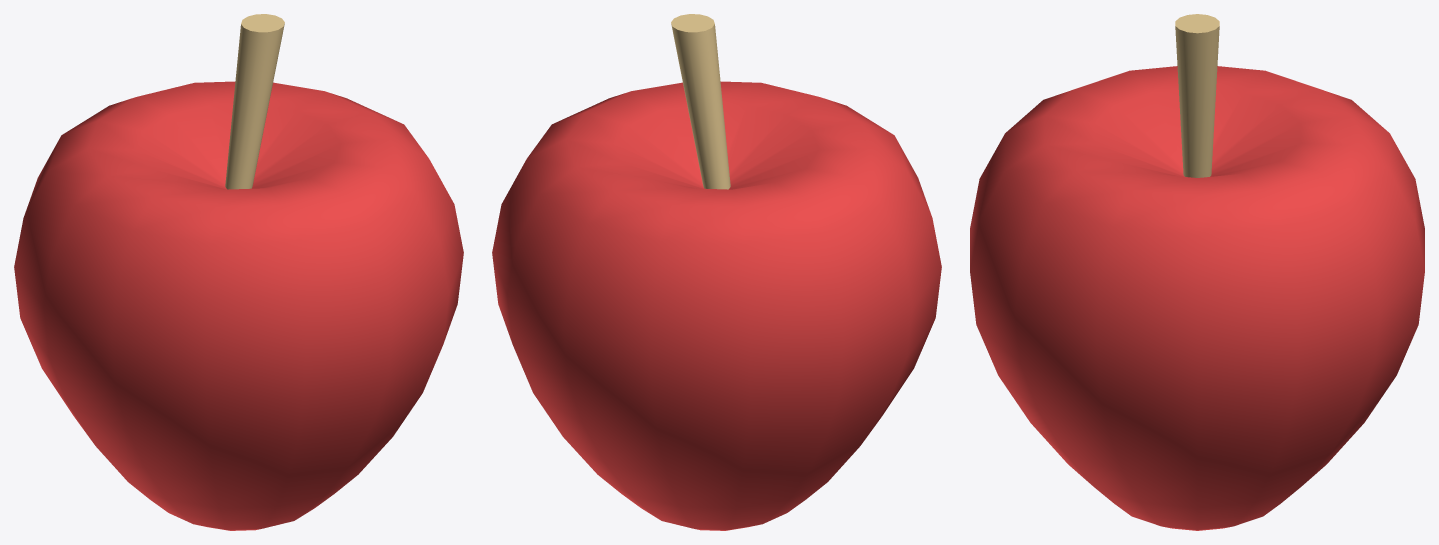
Rendered from apple.fbx.
3 views of the same model, side by side, from view 1: azimuth 30°, elevation 25°; view 2: azimuth 150°, elevation 25°; view 3: azimuth 270°, elevation 25° (orthographic). The views are drawn at different scales.
Parts seen in each view (by area): view 1: pSphere32; view 2: pSphere32; view 3: pSphere32.
Boxes of the visible parts, box(x1,y1,x2,y2) form: pSphere32: box(14, 14, 463, 530); pSphere32: box(492, 14, 941, 530); pSphere32: box(970, 14, 1424, 530).
Size of the model in its own units: 1.93 by 2.26 by 1.89.
